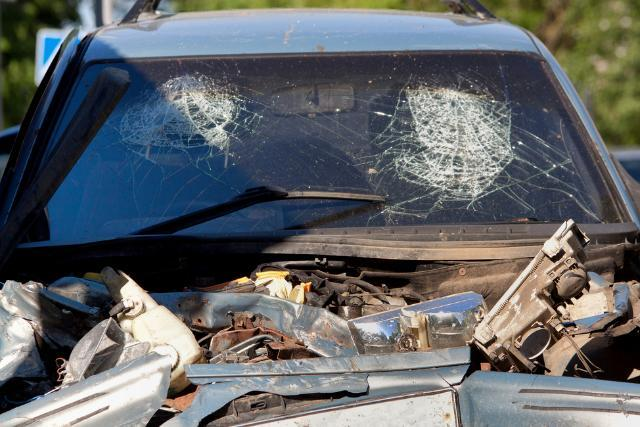Bonnet: (0, 239, 640, 427)
Windshield: (14, 50, 640, 232)
